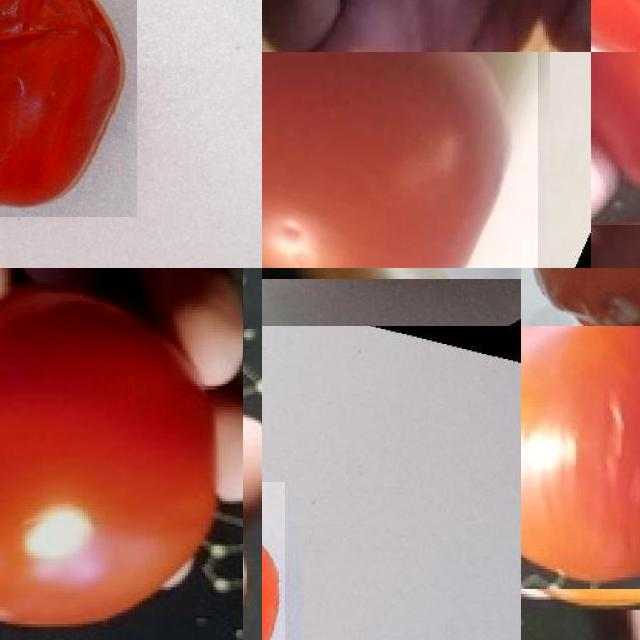1: (521, 326, 640, 599)
Fresh Tomato: (0, 268, 243, 640), (262, 52, 538, 268)
Rotten Tomato: (0, 0, 137, 216)
